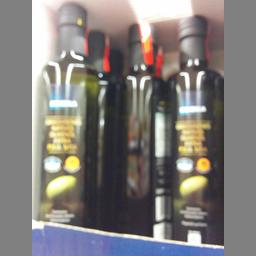oil: (108, 19, 170, 240), (164, 12, 220, 246), (41, 4, 98, 226)
